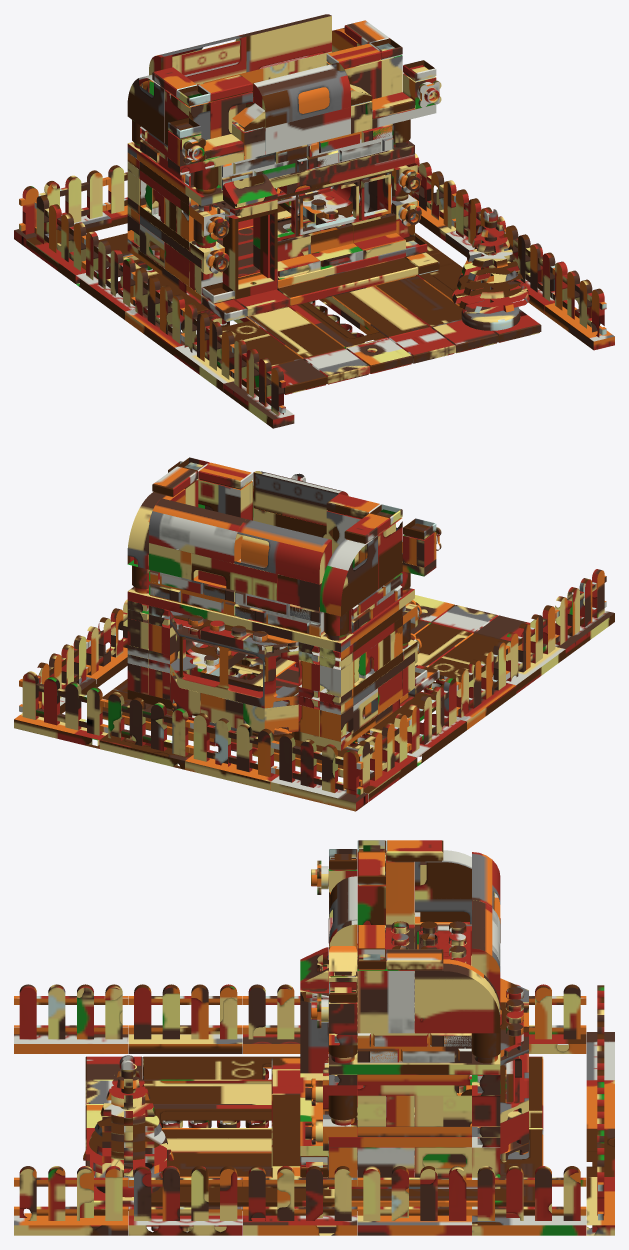
File: House02.fbx
3 views of the same model, one above another, from view 1: azimuth 30°, elevation 25°; view 2: azimuth 150°, elevation 25°; view 3: azimuth 270°, elevation 25° (orthographic). The views are drawn at different scales.
Parts seen in each view (by area): view 1: TM; view 2: TM; view 3: TM.
Boxes of the visible parts, x1,y1,x2,y2 form: TM: (14, 14, 614, 428); TM: (14, 457, 614, 811); TM: (14, 840, 614, 1235).
Bounding box in the file's own units: 12792 × 7356 × 16792.
